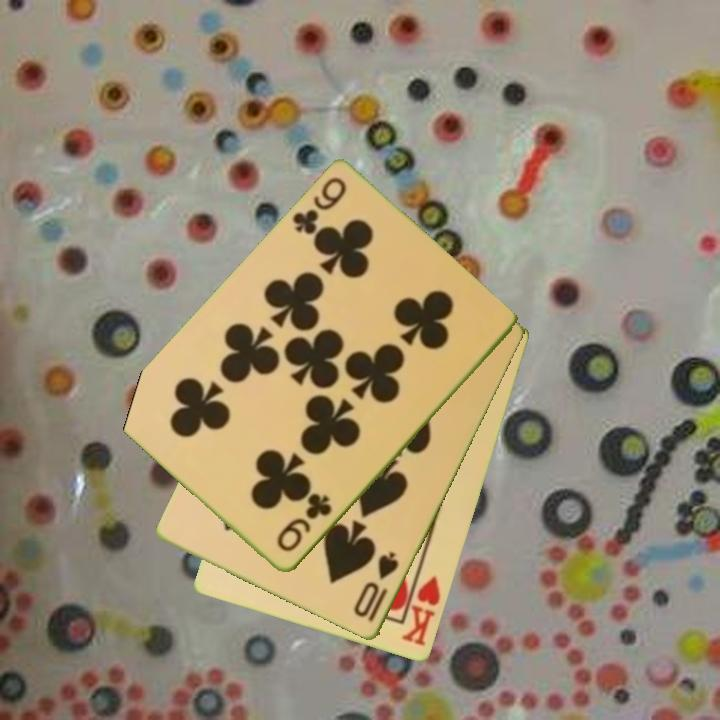10s: (350, 548, 402, 626)
9c: (288, 174, 350, 239), (273, 491, 335, 555)
Kh: (398, 564, 444, 650)
